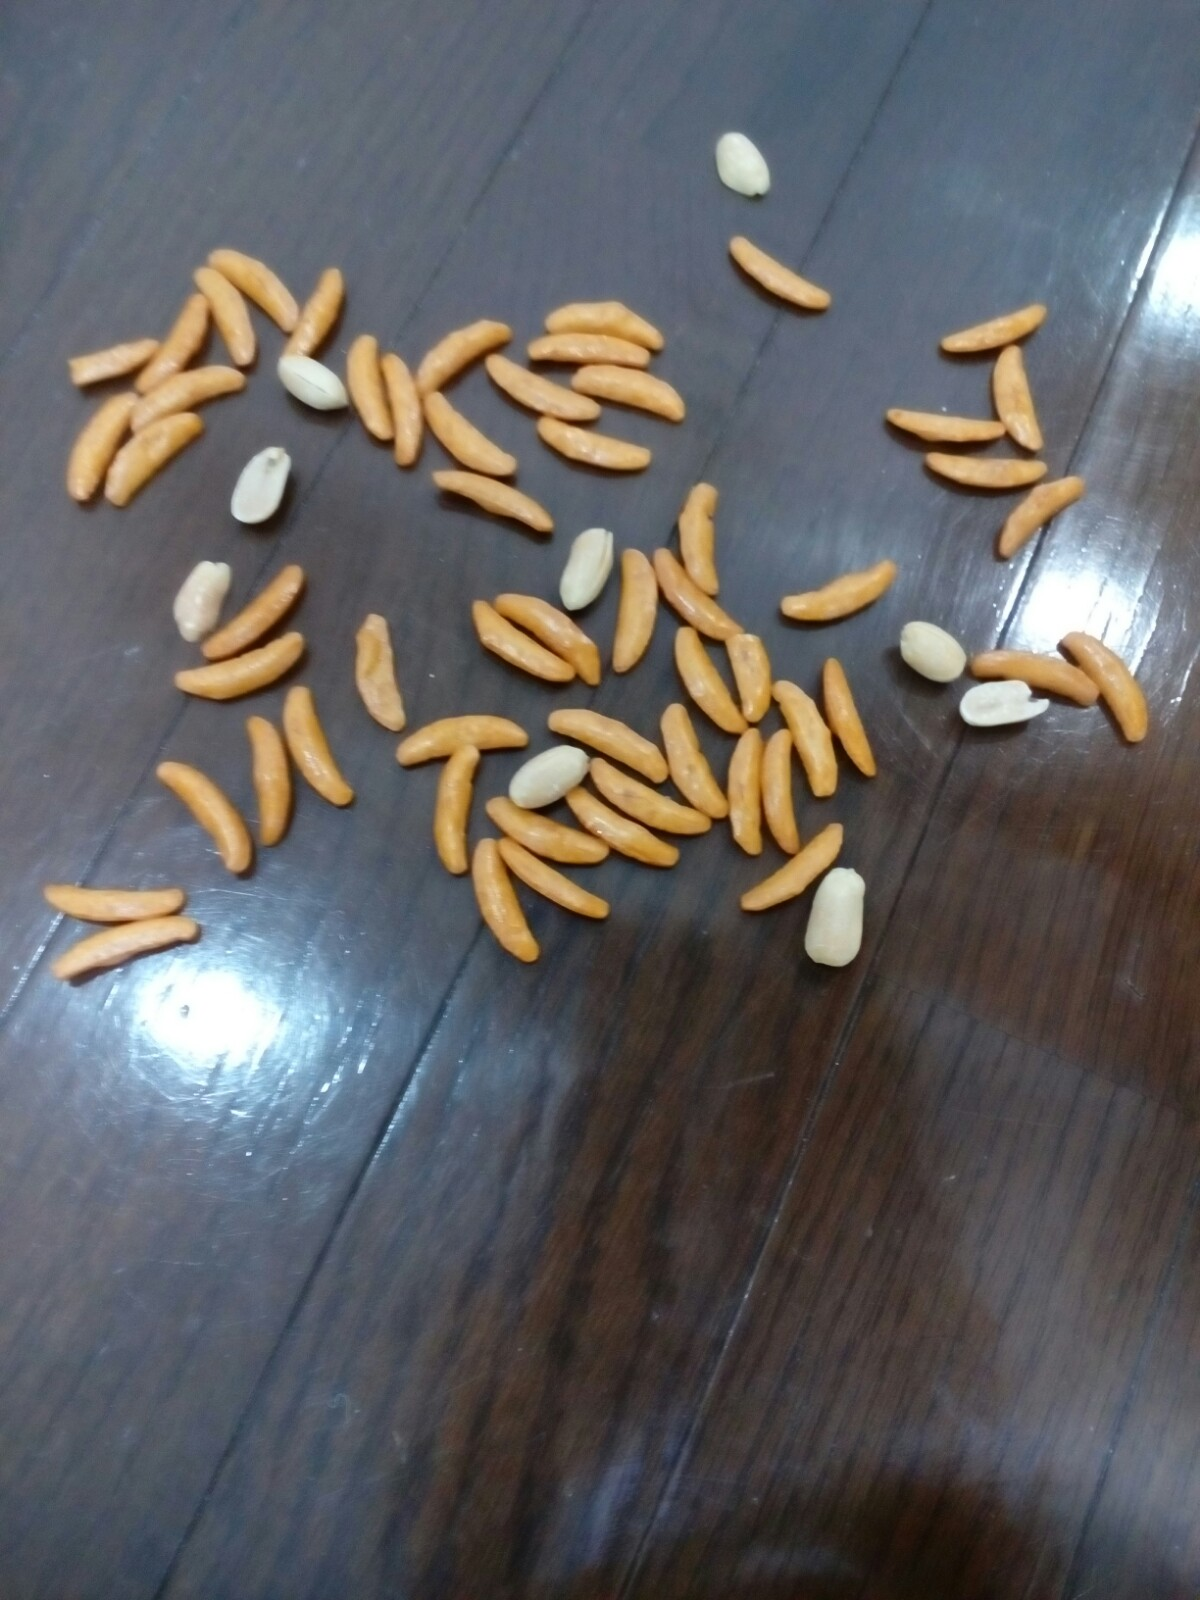peanut: (795, 853, 877, 974), (550, 517, 626, 614), (500, 738, 603, 808), (222, 442, 305, 527), (943, 671, 1056, 733), (166, 553, 233, 650), (268, 344, 358, 416), (896, 610, 969, 697), (711, 121, 776, 210)
